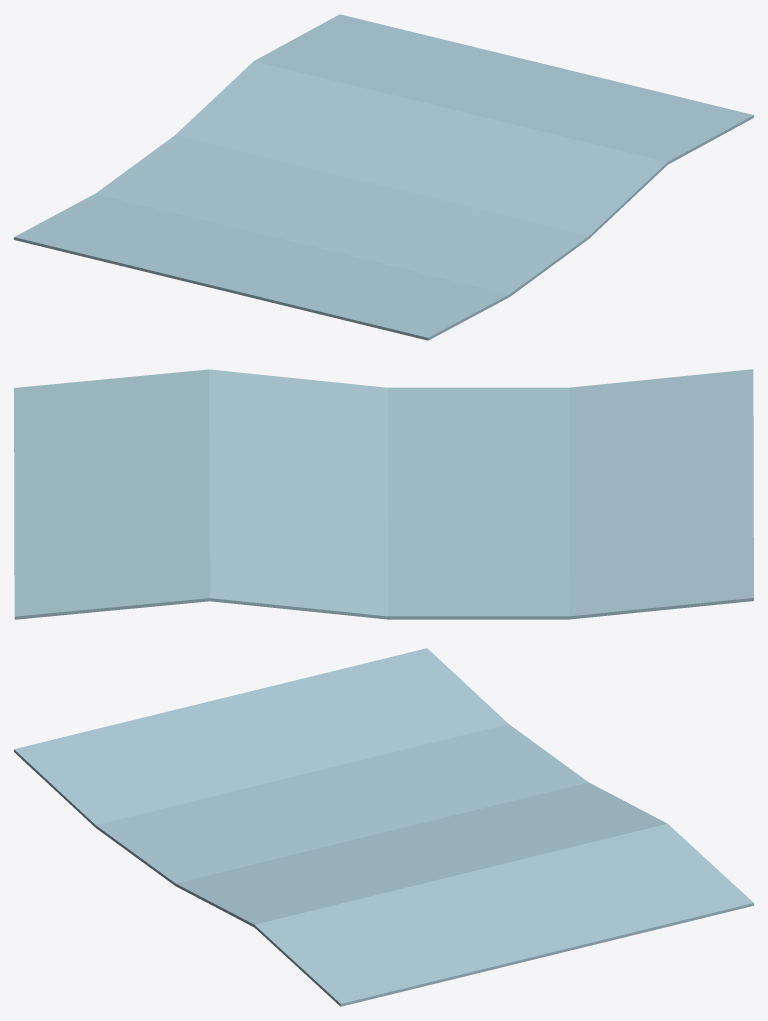
Rendered from Paper_4.fbx.
The picture shows the model from 3 angles, top to bottom: view 1: azimuth 30°, elevation 25°; view 2: azimuth 150°, elevation 25°; view 3: azimuth 270°, elevation 25°; orthographic projection. The views are drawn at different scales.
Parts seen in each view (by area): view 1: Paper_4; view 2: Paper_4; view 3: Paper_4.
Part boxes in pixels (bbox=[...]): Paper_4: bbox=[14, 14, 753, 340]; Paper_4: bbox=[14, 369, 753, 619]; Paper_4: bbox=[14, 648, 753, 1006].
Size of the model in its own units: 61.84 by 56.93 by 1.62.
